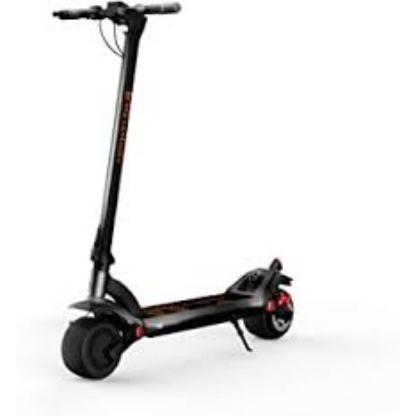bike: (58, 0, 302, 382)
